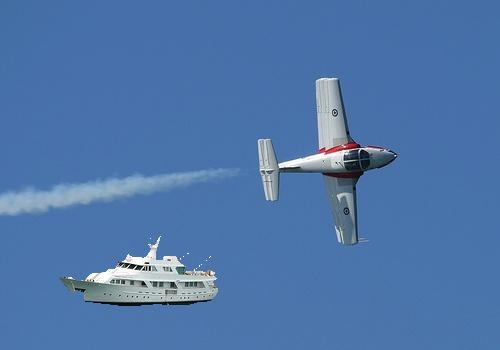tampered: (60, 237, 218, 306)
